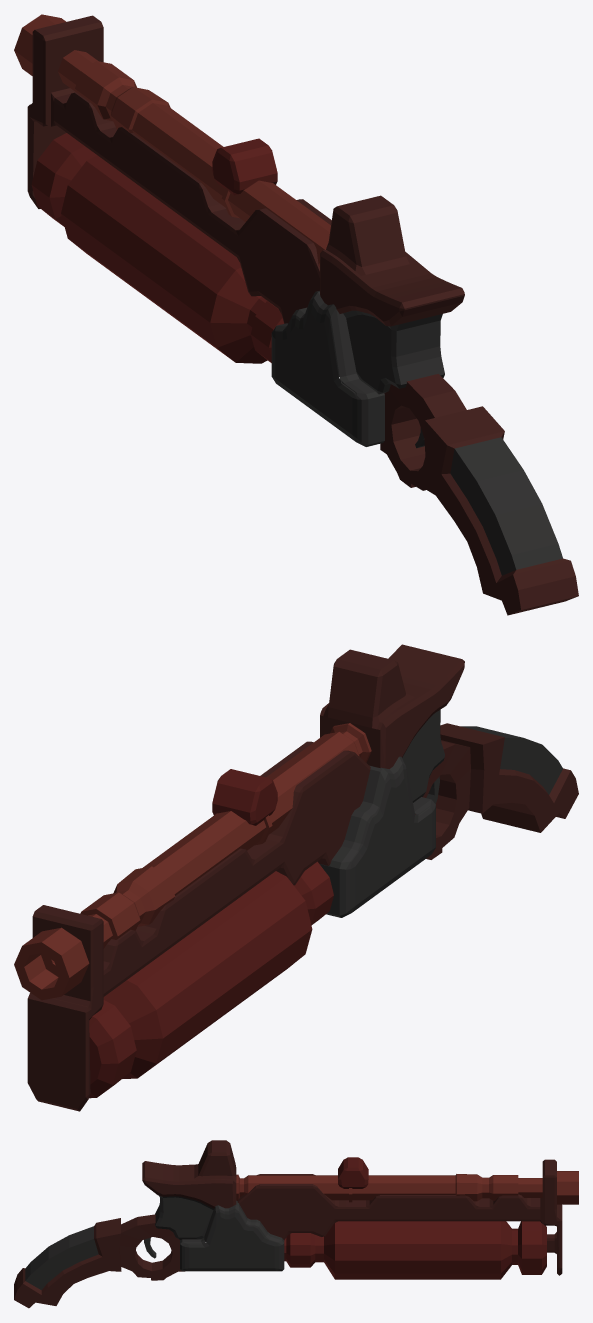
Rendered from quaternius-sci-fi-gun-longpistol.glb.
3 renders of one model, top to bottom at view 1: azimuth 30°, elevation 25°; view 2: azimuth 150°, elevation 25°; view 3: azimuth 270°, elevation 25°, orthographic. The views are drawn at different scales.
Visible parts, largest first — view 1: LongPistol; view 2: LongPistol; view 3: LongPistol.
Boxes of the visible parts, x1,y1,x2,y2 form: LongPistol: (14,14,578,615); LongPistol: (14,644,578,1111); LongPistol: (14,1140,578,1308).
Bounding box in the file's own units: 0.6382 × 1.66 × 5.5.
